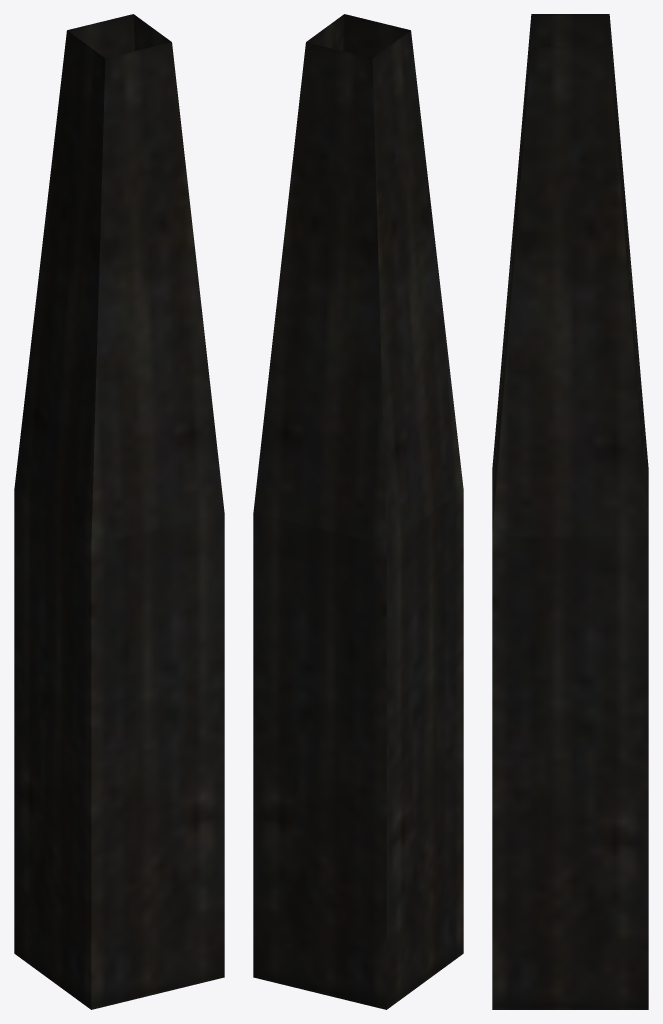
The model's file is column_2.obj.
3 renders of one model, left to right at view 1: azimuth 30°, elevation 25°; view 2: azimuth 150°, elevation 25°; view 3: azimuth 270°, elevation 25°, orthographic.
Parts seen in each view (by area): view 1: column_2; view 2: column_2; view 3: column_2.
Part boxes in pixels (x1,y1,x2,y2): column_2: [14, 14, 224, 1009]; column_2: [253, 14, 463, 1009]; column_2: [492, 14, 648, 1009].
Size of the model in its own units: 0.3 by 2 by 0.3.
